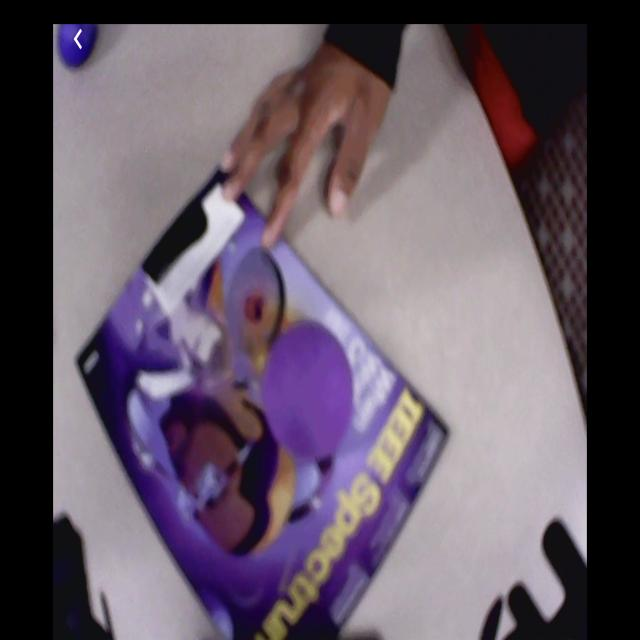ball: (266, 326, 353, 456), (58, 23, 98, 68)
